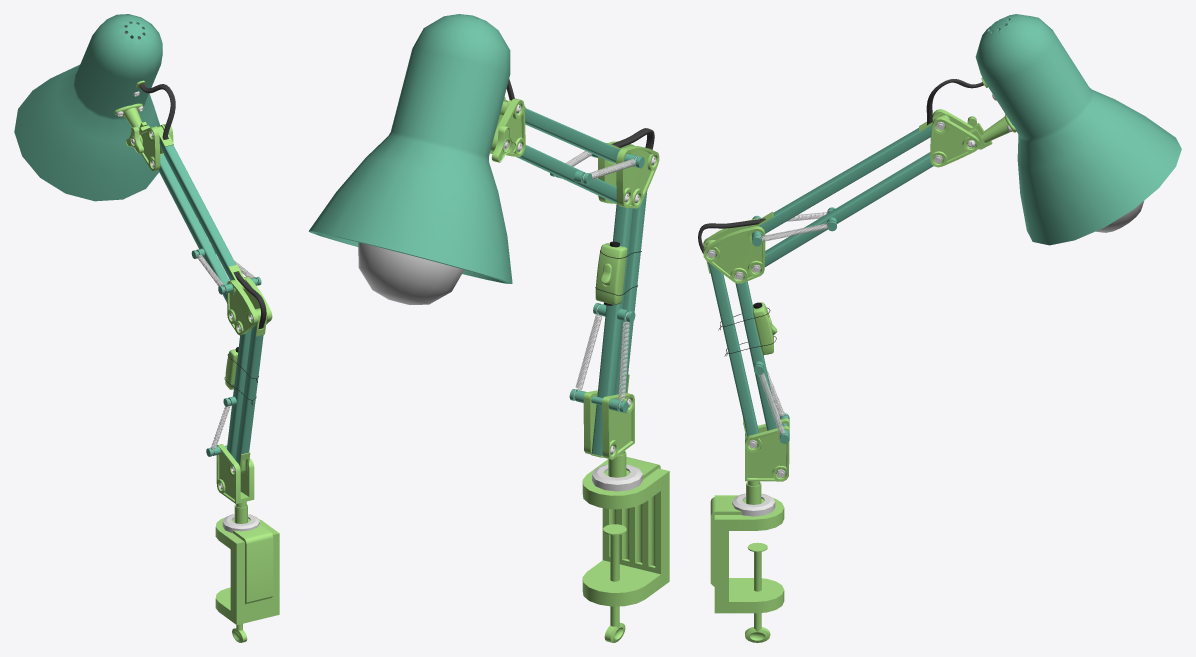
Rendered from lamp_mechanical.fbx.
3 views of the same model, side by side, from view 1: azimuth 30°, elevation 25°; view 2: azimuth 150°, elevation 25°; view 3: azimuth 270°, elevation 25° (orthographic). The views are drawn at different scales.
Visible parts, largest first — view 1: Circle, Circle.006, Circle.007, Cube, Cube.001, Cube.002, Cylinder.019, Cube.003, Cylinder.014, Cylinder.006, BezierCurve.001, Cylinder.027 (+2 smaller); view 2: Circle, Circle.006, Circle.005, Cube.003, Cylinder.019, Cube.002, Cylinder.014, Cube, Cube.001, Cube.015, Cylinder.006, Cylinder.027 (+3 smaller); view 3: Circle, Circle.006, Cube, Cube.001, Cylinder.013, Cylinder.019, Cube.002, Cylinder, Cube.003, Circle.007, Cube.015.
Boxes of the visible parts, <box> form: Circle: <box>14,14,162,201</box>; Circle.006: <box>215,517,279,624</box>; Circle.007: <box>232,518,273,604</box>; Cube: <box>159,137,236,280</box>; Cube.001: <box>158,154,229,302</box>; Cube.002: <box>235,324,263,465</box>; Cylinder.019: <box>216,444,254,503</box>; Cube.003: <box>227,329,251,459</box>; Cylinder.014: <box>227,279,258,335</box>; Cylinder.006: <box>139,127,160,170</box>; BezierCurve.001: <box>139,83,175,139</box>; Cylinder.027: <box>222,514,259,532</box>; Circle: <box>308,14,512,283</box>; Circle.006: <box>582,459,669,606</box>; Circle.005: <box>358,242,463,304</box>; Cube.003: <box>591,203,632,455</box>; Cylinder.019: <box>583,390,634,459</box>; Cube.002: <box>614,191,647,394</box>; Cylinder.014: <box>616,146,659,208</box>; Cube: <box>524,108,620,162</box>; Cube.001: <box>516,145,616,202</box>; Cube.015: <box>595,243,627,304</box>; Cylinder.006: <box>491,98,525,157</box>; Cylinder.027: <box>592,464,642,491</box>; Circle: <box>975,14,1181,245</box>; Circle.006: <box>714,495,784,613</box>; Cube: <box>758,124,932,233</box>; Cube.001: <box>765,152,933,266</box>; Cylinder.013: <box>703,226,765,283</box>; Cylinder.019: <box>745,418,789,481</box>; Cube.002: <box>708,262,758,436</box>; Cylinder: <box>930,116,979,167</box>; Cube.003: <box>735,281,778,430</box>; Circle.007: <box>710,496,764,586</box>; Cube.015: <box>753,302,773,355</box>.
Bounding box in the file's own units: 225 × 862 × 606.
